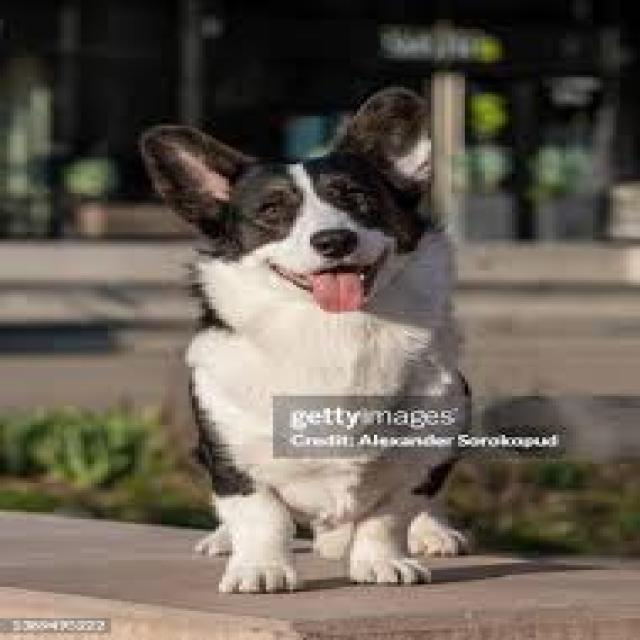CORGI: (128, 89, 478, 584)
